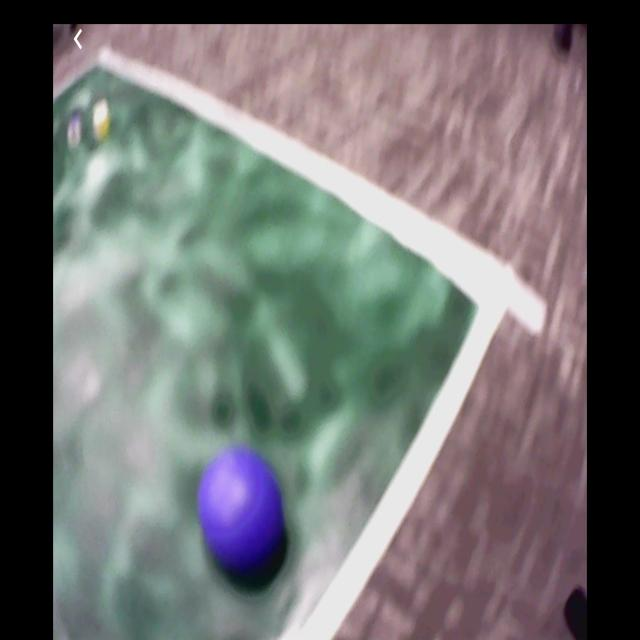ball: (199, 448, 283, 575)
